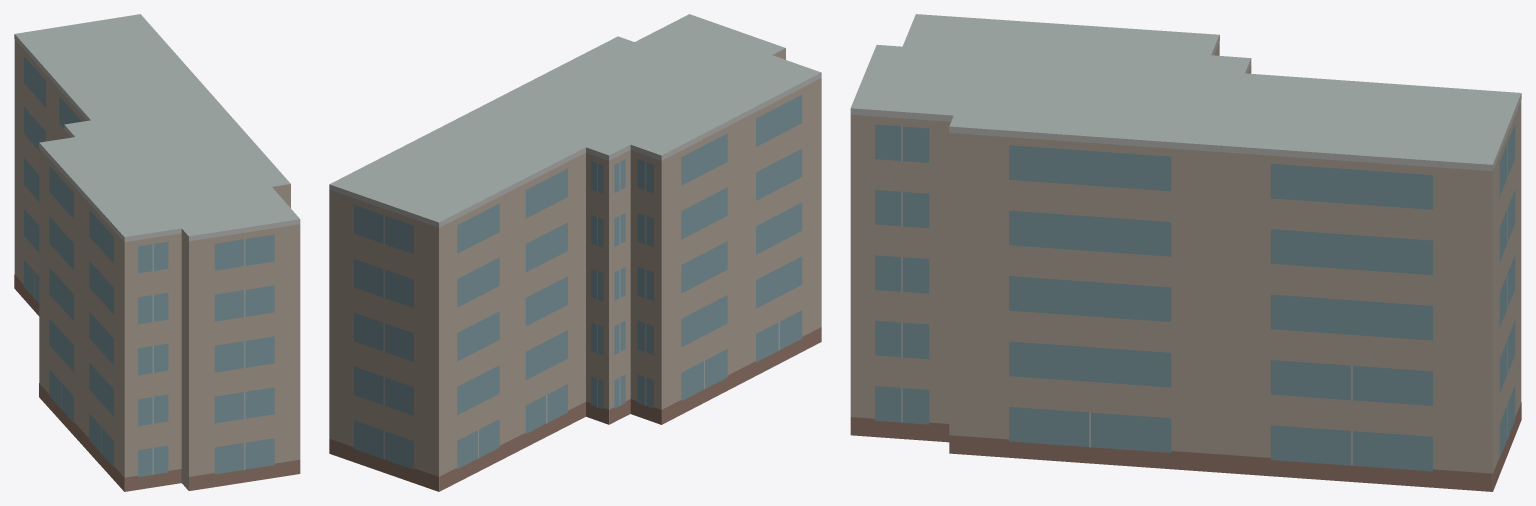
The model's file is survey-upis-32656574.glb.
3 renders of one model, left to right at view 1: azimuth 30°, elevation 25°; view 2: azimuth 150°, elevation 25°; view 3: azimuth 270°, elevation 25°, orthographic. The views are drawn at different scales.
Visible parts, largest first — view 1: survey-upis-32656574.tmp; view 2: survey-upis-32656574.tmp; view 3: survey-upis-32656574.tmp.
Part boxes in pixels (box(x1,y1,x2,y2)): survey-upis-32656574.tmp: box(14, 14, 300, 491); survey-upis-32656574.tmp: box(329, 14, 821, 491); survey-upis-32656574.tmp: box(850, 14, 1521, 491).
Bounding box in the file's own units: 12.33 × 12.45 × 23.16.
